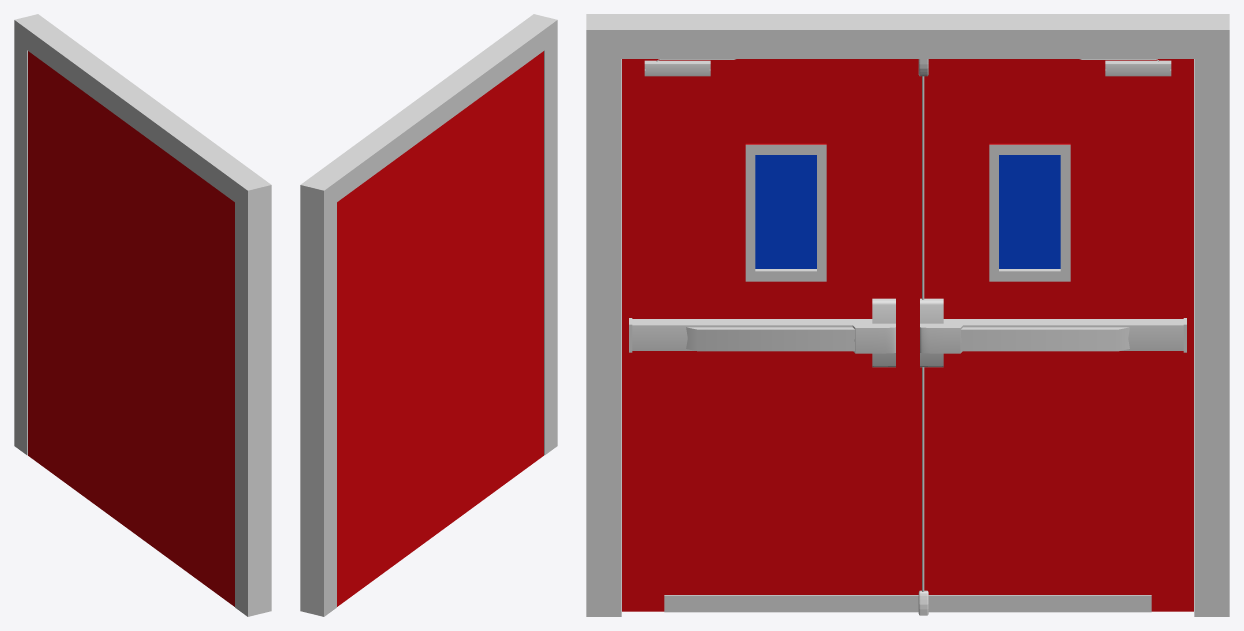
File: door_exit.fbx
3 renders of one model, left to right at view 1: azimuth 30°, elevation 25°; view 2: azimuth 150°, elevation 25°; view 3: azimuth 270°, elevation 25°, orthographic. The views are drawn at different scales.
Parts seen in each view (by area): view 1: Cube, Cube.003; view 2: Cube, Cube.003; view 3: Cube, Cube.003, Cube.004, Cube.005, Cube.006, Cylinder.
Part boxes in pixels (<box>): Cube: <box>28,51,234,606</box>; Cube.003: <box>14,14,271,616</box>; Cube: <box>337,51,543,606</box>; Cube.003: <box>300,14,557,616</box>; Cube: <box>622,59,1193,612</box>; Cube.003: <box>586,14,1229,616</box>; Cube.004: <box>629,298,1186,367</box>; Cube.005: <box>686,327,1129,351</box>; Cube.006: <box>644,60,1171,76</box>; Cylinder: <box>922,76,924,591</box>.
Size of the model in its own units: 15.15 by 210 by 208.
